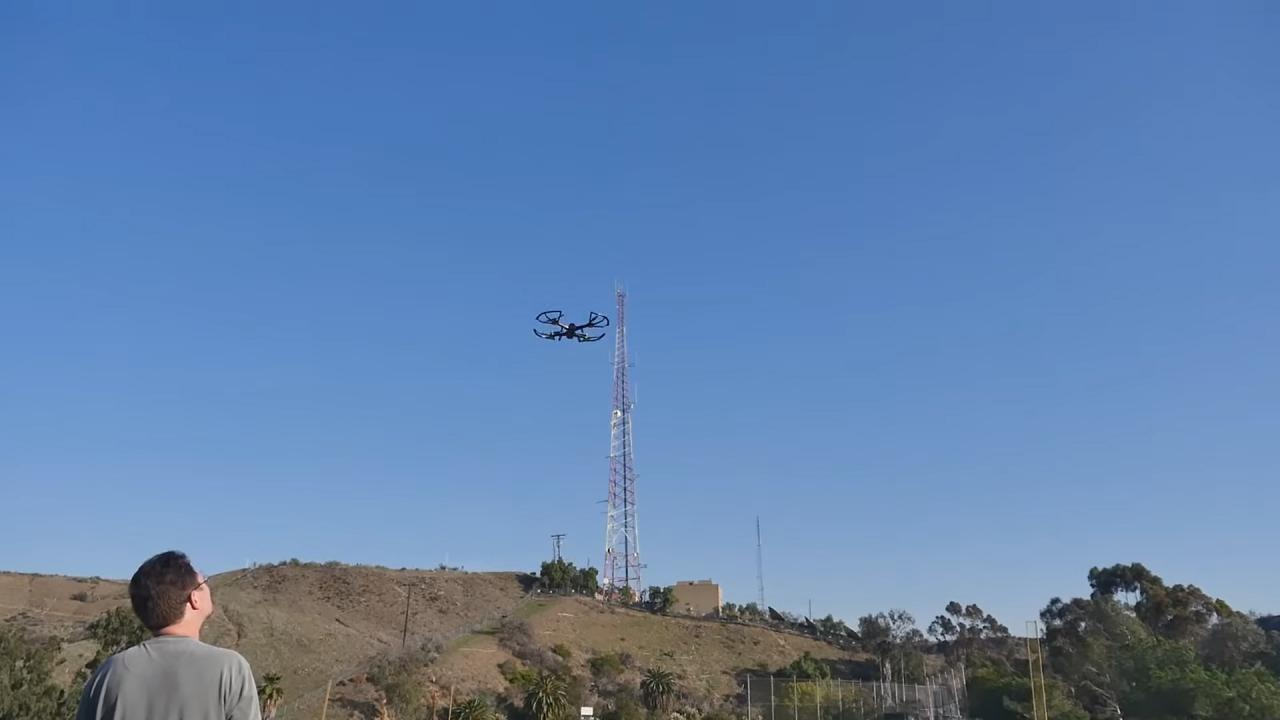Drone: (526, 301, 616, 352)
